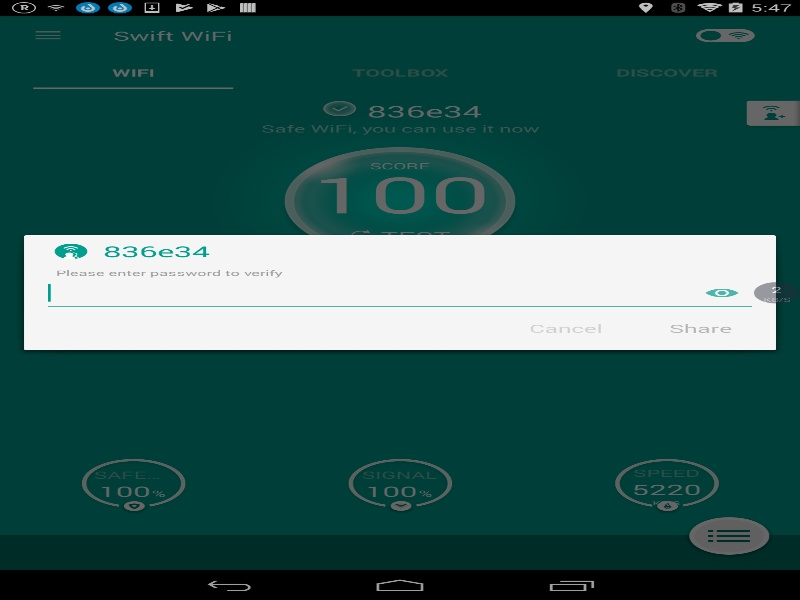Input: (48, 284, 705, 301)
